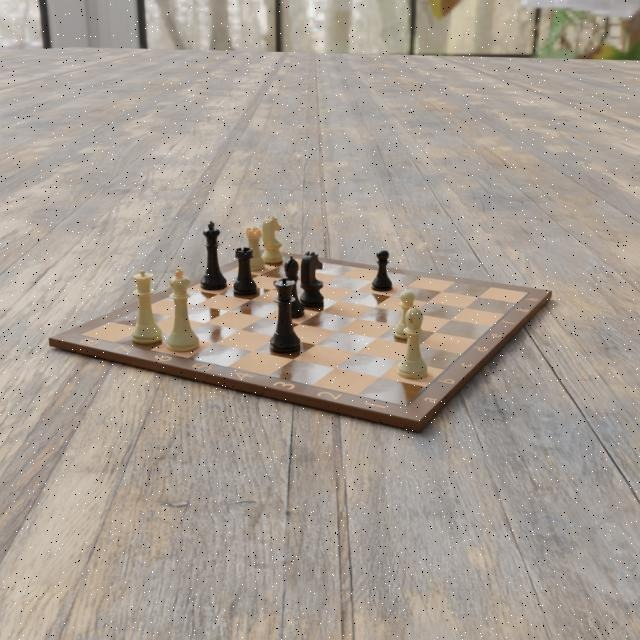black-bishop: (278, 256, 305, 320)
black-king: (200, 220, 228, 291)
black-knight: (299, 251, 325, 309)
black-pawn: (370, 247, 393, 292)
black-queen: (270, 275, 302, 353)
black-rook: (232, 248, 258, 296)
white-bishop: (396, 303, 428, 382)
white-king: (165, 267, 200, 353)
white-knight: (260, 214, 284, 264)
white-pawn: (393, 288, 421, 340)
white-queen: (129, 267, 162, 346)
white-rook: (242, 226, 266, 273)
